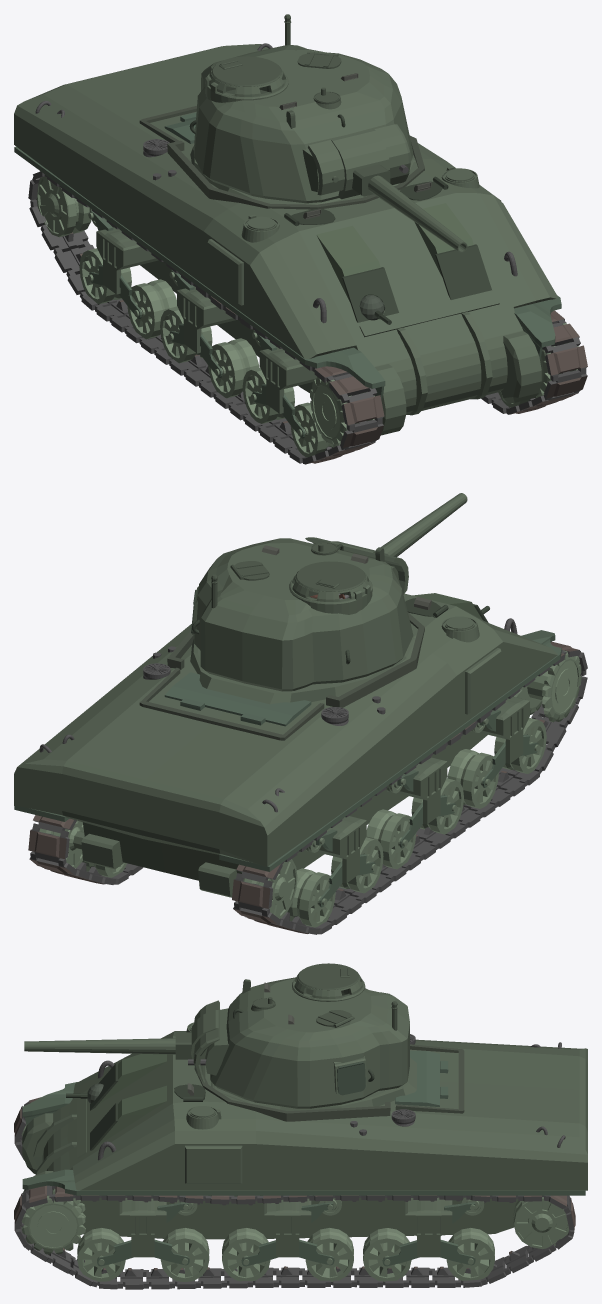
Rendered from sherman.fbx.
The picture shows the model from 3 angles, top to bottom: view 1: azimuth 30°, elevation 25°; view 2: azimuth 150°, elevation 25°; view 3: azimuth 270°, elevation 25°; orthographic projection. The views are drawn at different scales.
Parts seen in each view (by area): view 1: Cube.011, Circle, Cube.035, Cylinder.001, Cube.008, Plane.011, Cube.027, Cube.002, Circle.001, Cylinder.004, Circle.020, Circle.016 (+19 smaller); view 2: Cube.011, Circle, Cube.035, Circle.001, Plane, Cube.027, Plane.011, Circle.013, Circle.015, Circle.019, Circle.017, Plane.024 (+11 smaller); view 3: Cube.011, Circle, Cube.027, Plane.010, Circle.001, Circle.002, Cube.002, Cylinder.001, Cube.006, Circle.009, Cylinder.003, Circle.004 (+22 smaller).
Boxes of the visible parts, left/top/right/bottom form: Cube.011: left=14, top=44, right=557, bottom=414; Circle: left=194, top=45, right=413, bottom=203; Cube.035: left=28, top=171, right=384, bottom=464; Cylinder.001: left=302, top=124, right=410, bottom=199; Cube.008: left=342, top=244, right=491, bottom=322; Plane.011: left=14, top=146, right=385, bottom=398; Cube.027: left=481, top=310, right=587, bottom=414; Cube.002: left=316, top=203, right=473, bottom=309; Circle.001: left=139, top=106, right=424, bottom=209; Cylinder.004: left=501, top=331, right=541, bottom=403; Circle.020: left=36, top=176, right=91, bottom=237; Circle.016: left=208, top=338, right=259, bottom=398; Cube.011: left=14, top=593, right=557, bottom=897; Circle: left=192, top=538, right=413, bottom=691; Cube.035: left=232, top=641, right=587, bottom=934; Circle.001: left=139, top=612, right=424, bottom=740; Plane: left=164, top=672, right=311, bottom=726; Cube.027: left=28, top=815, right=143, bottom=884; Plane.011: left=219, top=630, right=561, bottom=871; Circle.013: left=514, top=650, right=581, bottom=722; Circle.015: left=447, top=749, right=498, bottom=808; Circle.019: left=287, top=868, right=335, bottom=927; Circle.017: left=366, top=809, right=416, bottom=869; Plane.024: left=295, top=561, right=365, bottom=591; Cube.011: left=42, top=1031, right=587, bottom=1257; Circle: left=210, top=970, right=409, bottom=1108; Cube.027: left=14, top=1185, right=575, bottom=1289; Plane.010: left=22, top=1169, right=585, bottom=1195; Circle.001: left=194, top=1044, right=464, bottom=1121; Circle.002: left=21, top=1188, right=85, bottom=1254; Cube.002: left=97, top=1054, right=166, bottom=1145; Cylinder.001: left=191, top=1000, right=228, bottom=1082; Cube.006: left=185, top=1145, right=242, bottom=1183; Circle.009: left=513, top=1197, right=569, bottom=1248; Cylinder.003: left=24, top=1038, right=175, bottom=1054; Circle.004: left=160, top=1228, right=209, bottom=1281.
Bounding box in the file's own units: 90.31 × 94.81 × 195.
